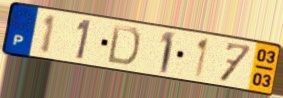1: (193, 36, 214, 82), (159, 31, 178, 76), (74, 18, 93, 62), (40, 14, 58, 55)
7: (218, 41, 253, 84)
D: (105, 23, 142, 68)
